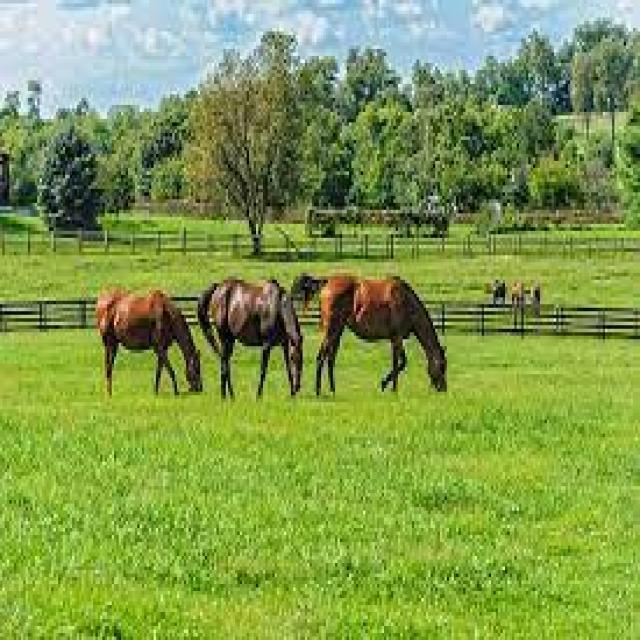horse-eating: (302, 264, 453, 409), (201, 269, 311, 426), (90, 276, 206, 422)
